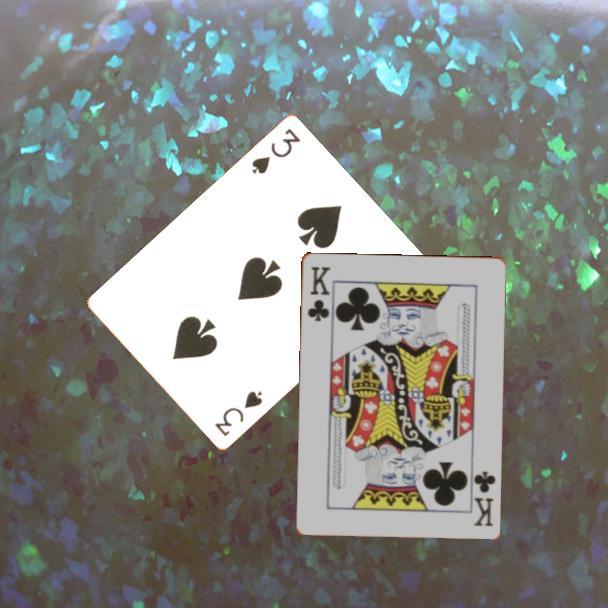c13: (304, 263, 333, 324), (470, 467, 498, 529)
s03: (248, 125, 304, 178), (211, 388, 266, 440)
